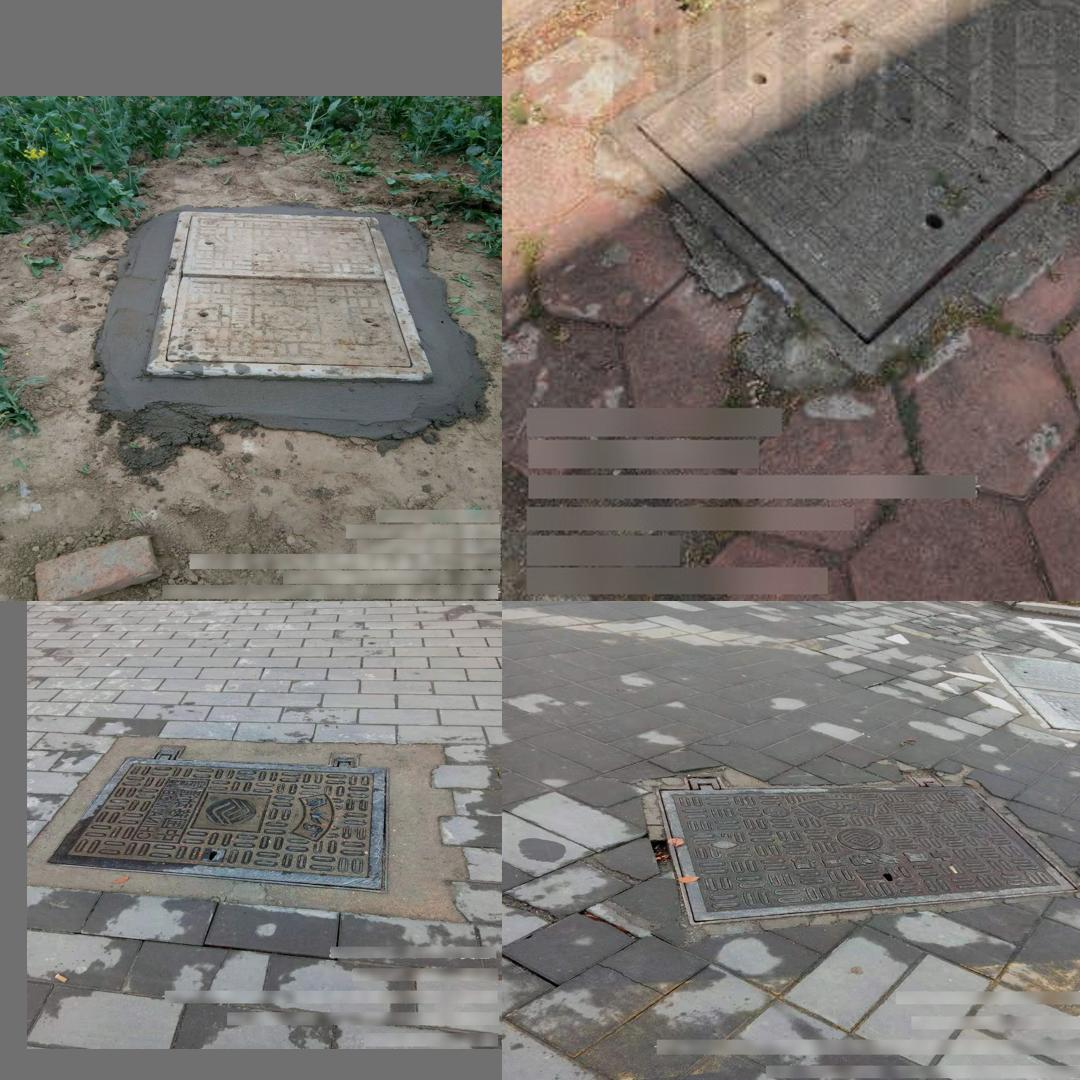good: (604, 0, 1080, 381), (657, 778, 1080, 924), (38, 750, 402, 888), (149, 214, 434, 388), (978, 652, 1080, 735)
